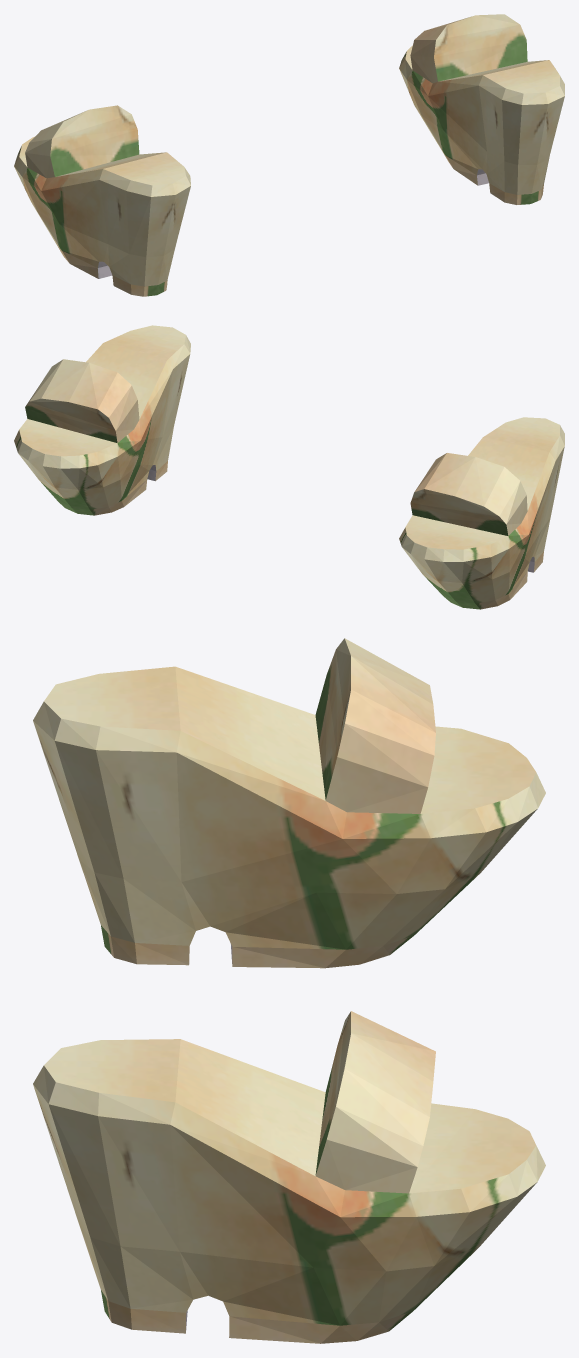
File: skinSource0PDE.obj
3 views of the same model, one above another, from view 1: azimuth 30°, elevation 25°; view 2: azimuth 150°, elevation 25°; view 3: azimuth 270°, elevation 25° (orthographic). The views are drawn at different scales.
Visible parts, largest first — view 1: skinSource0PDE; view 2: skinSource0PDE; view 3: skinSource0PDE.
Part boxes in pixels (x1,y1,x2,y2): skinSource0PDE: (14, 14, 564, 296); skinSource0PDE: (14, 325, 564, 609); skinSource0PDE: (33, 638, 545, 1343).
Size of the model in its own units: 36.89 by 10.27 by 16.81.
